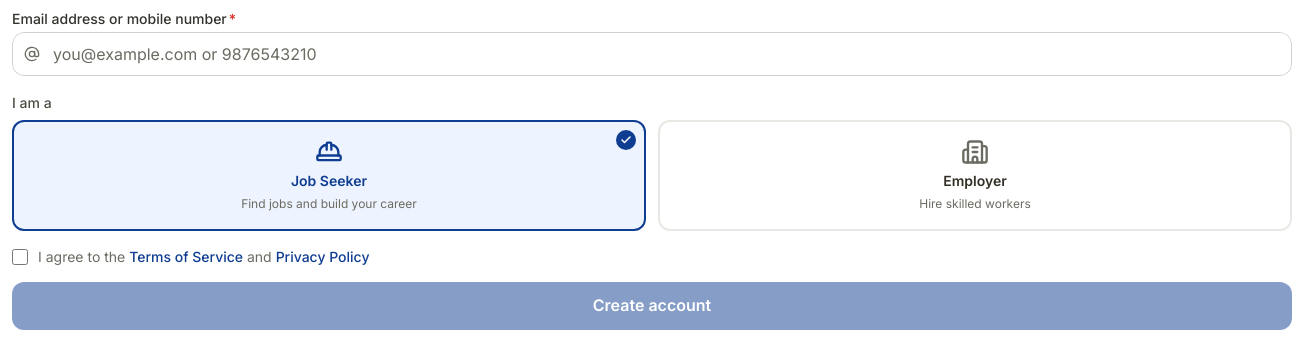
Test: SignupForm › blocks submission until terms are accepted
Expected: the button "Create account" is disabled, [12,282,1292,330]
What coordinates should you click on to do the following:
click the checkbox
I would click on:
 (20, 256)
Its box is [12,248,28,264].
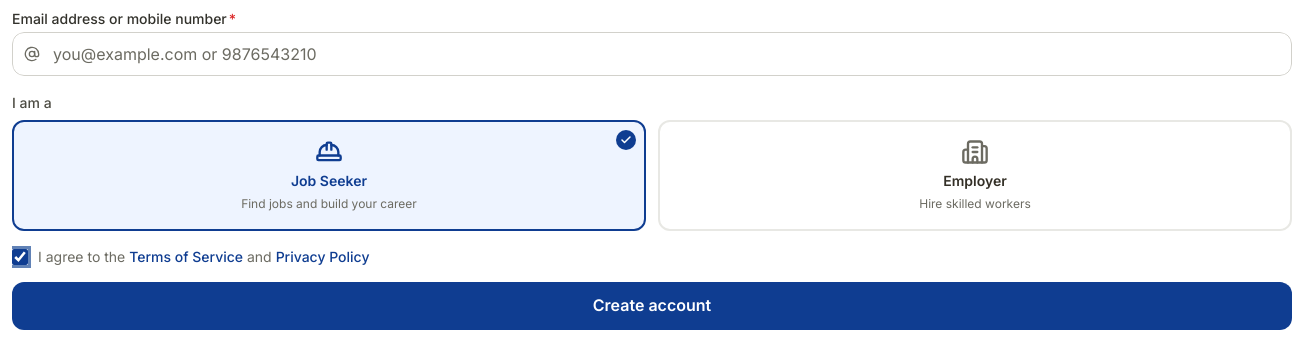
Result: the button "Create account" is enabled at [12,282,1292,330]
